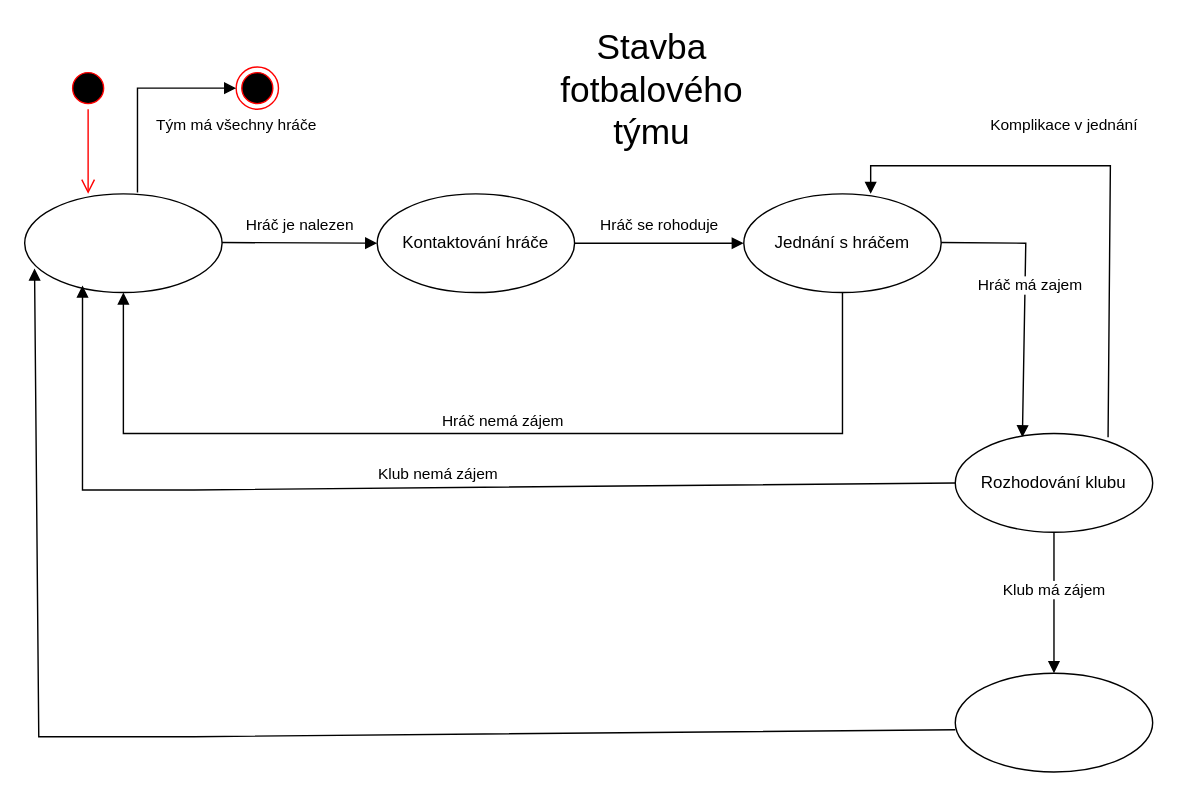
This 1177x797 diagram has some shape labels left out. Each missing label, with the centre of its shape:
Dokončení přestupu: (1053,722)
Hledání hráče: (122,242)
